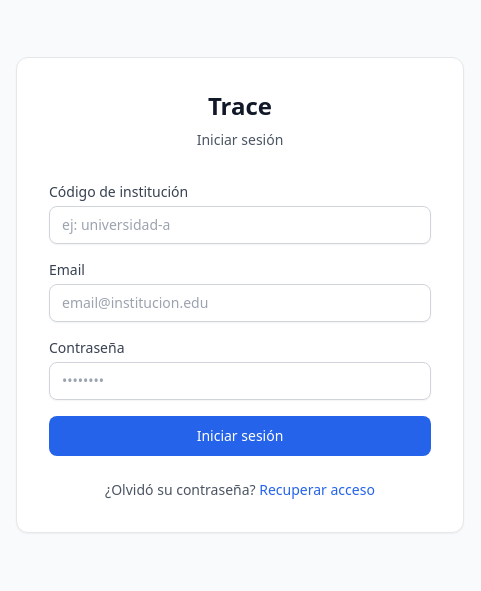
Test case: LoginPage › shows rate limit error for 429 response
The width and height of the screenshot is (481, 591).
Type "test" into the field labelled "Código de institución" at (240, 225), box [49,206,431,244]
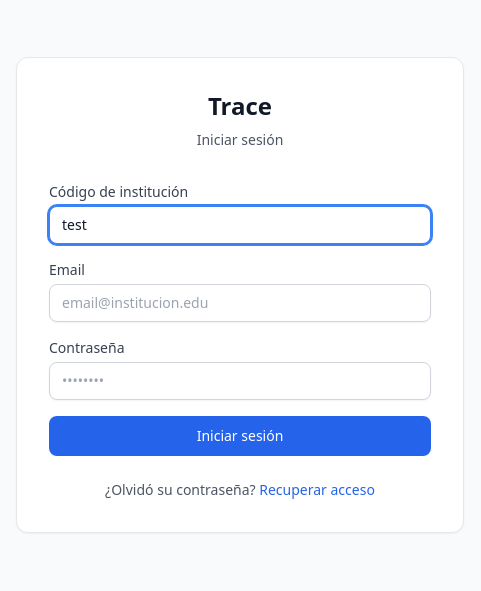
Type "ratelimit@test.com" into the field labelled "Email" at (240, 303), box [49,284,431,322]
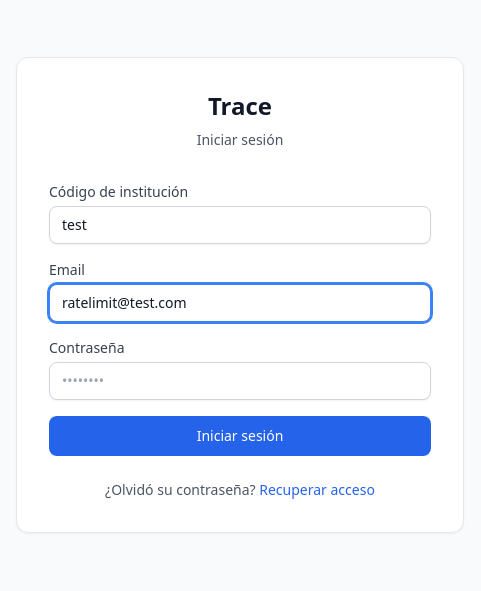
Type "any" into the password field labelled "Contraseña" at (240, 381), box [49,362,431,400]
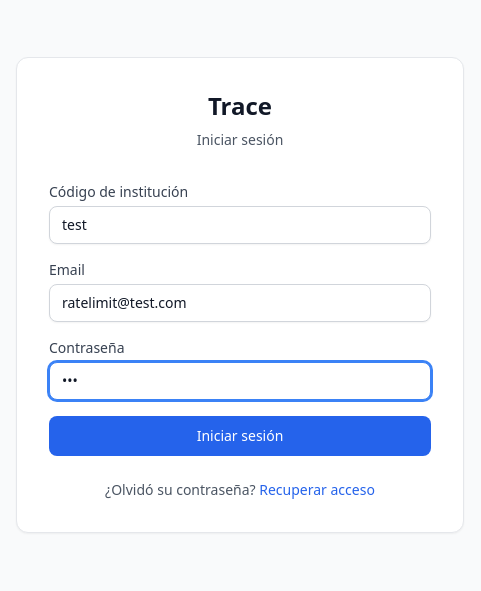
Click the button "Iniciar sesión" at (240, 436), box [49,416,431,456]
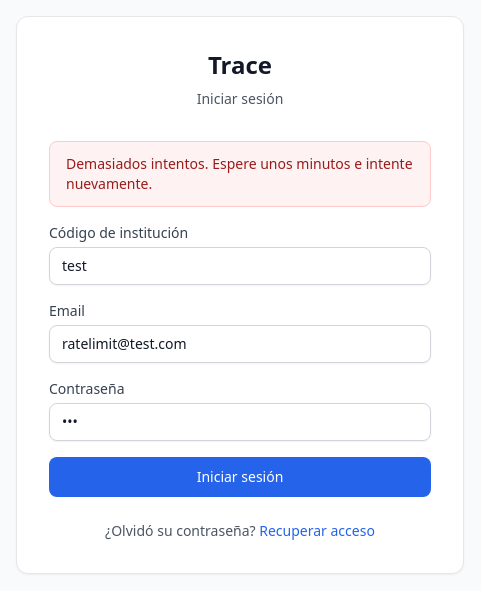
Expected: the text "Demasiados intentos. Espere unos minutos e intente nuevamente." is shown, [49,141,431,207]
